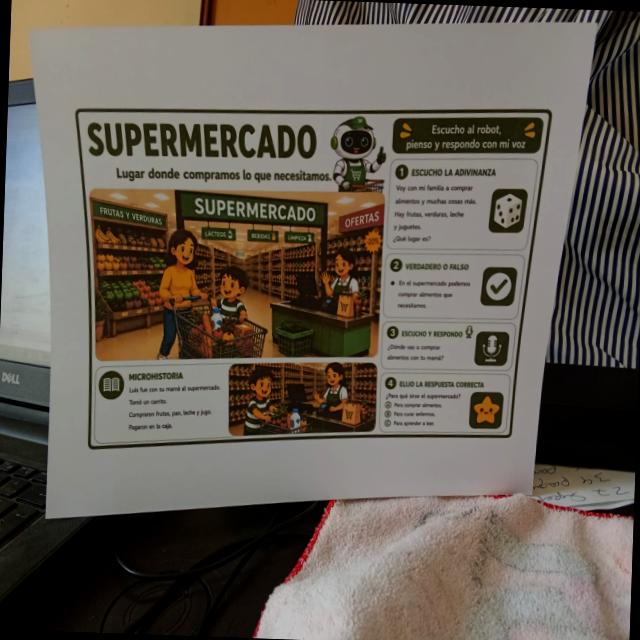supermercado: (58, 84, 557, 470)
